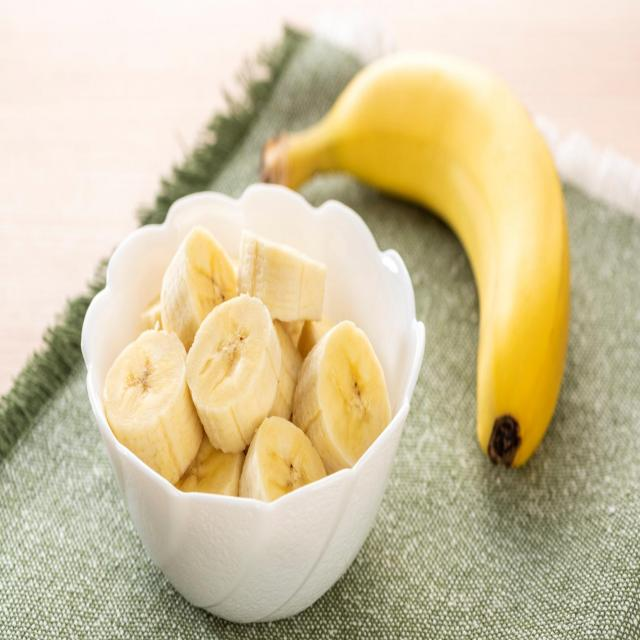banana: (263, 29, 576, 476)
